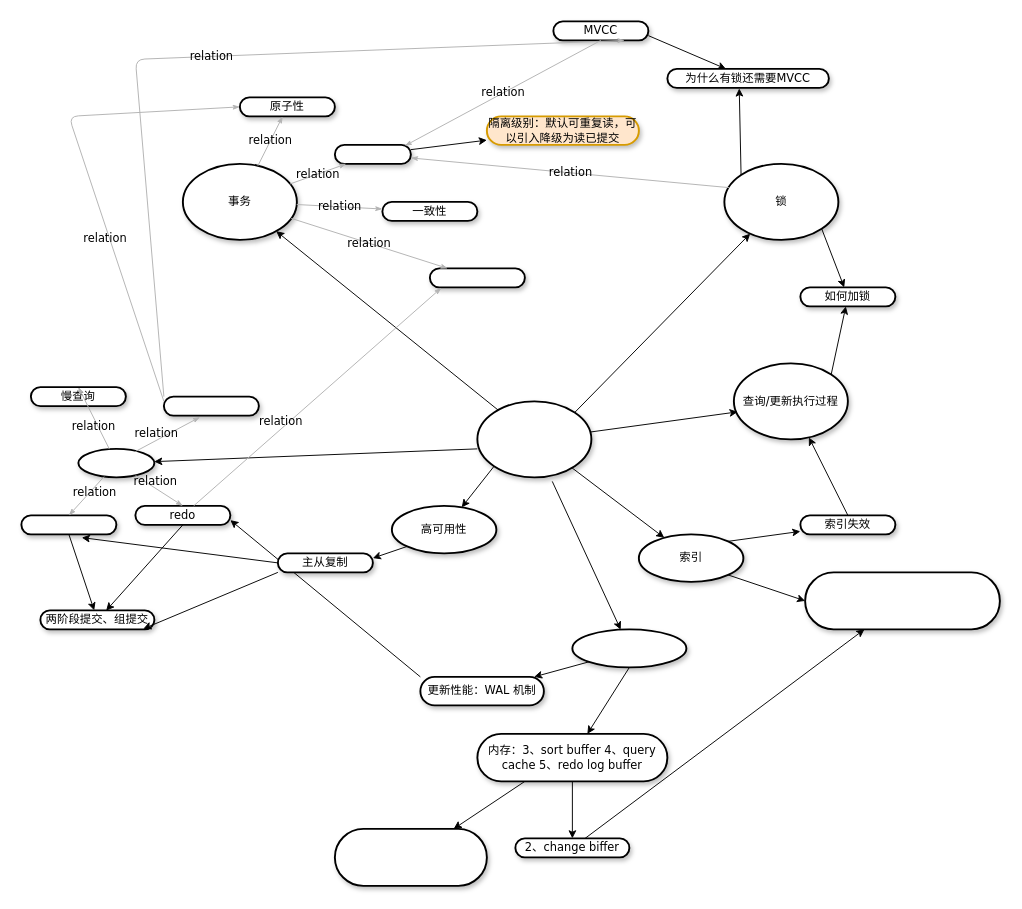
Image size: 1022x909. Some labels were removed from this diagram. The shapes that lost their labels are listed below. From the top down, each one's centre as x and y in pixels, then its label:
At pixel 373 155: "隔离性".
At pixel 478 278: "持久性".
At pixel 212 407: "undo".
At pixel 535 440: "MySQL/存储引擎".
At pixel 117 464: "日志".
At pixel 69 526: "binlog".
At pixel 903 601: "索引优化：1、索引下推 2、覆盖索引 3、MRR 多范围读取优化 4、索引合并 6、change buffer 7、索引跳跃扫描（8.0支持）".
At pixel 630 649: "性能问题".
At pixel 411 858: "1、buffer pool： LRU 列表、Free 列表、缓冲池污染（停留时间窗口）、预读失效（LRU new old）".
